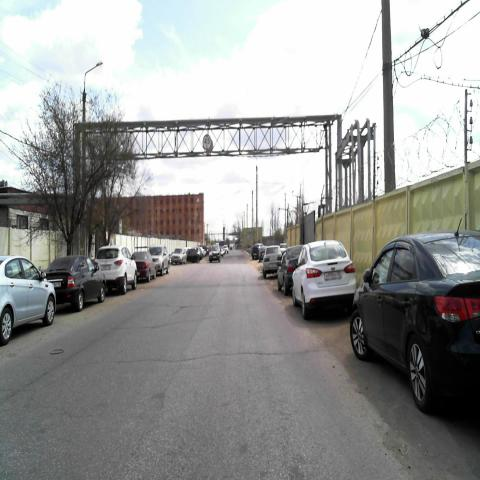3_13: (203, 134, 211, 150)
